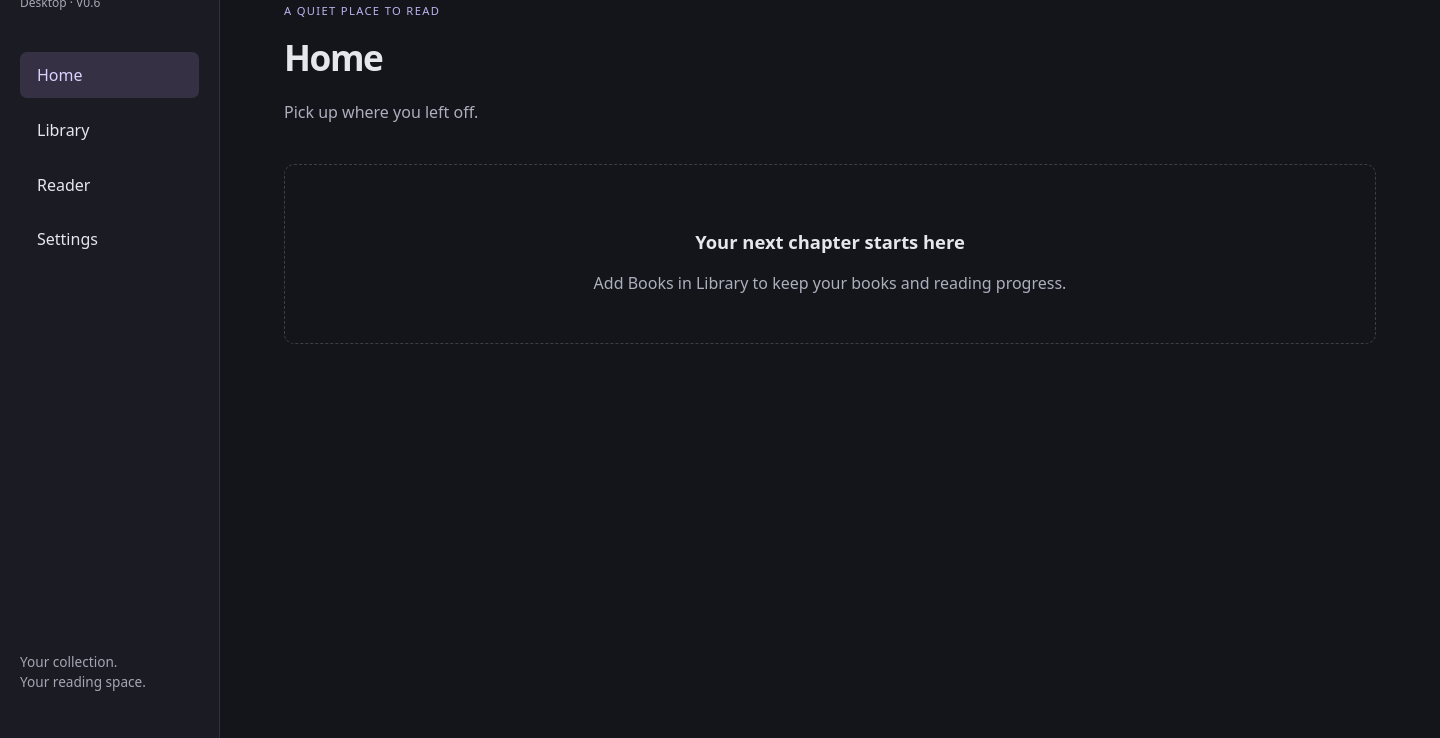
it: empty library, batch import, duplicate and invalid results use real metadata
The image size is (1440, 738).
Click the button "Library". click: (110, 130)
box: [20,106,199,153]
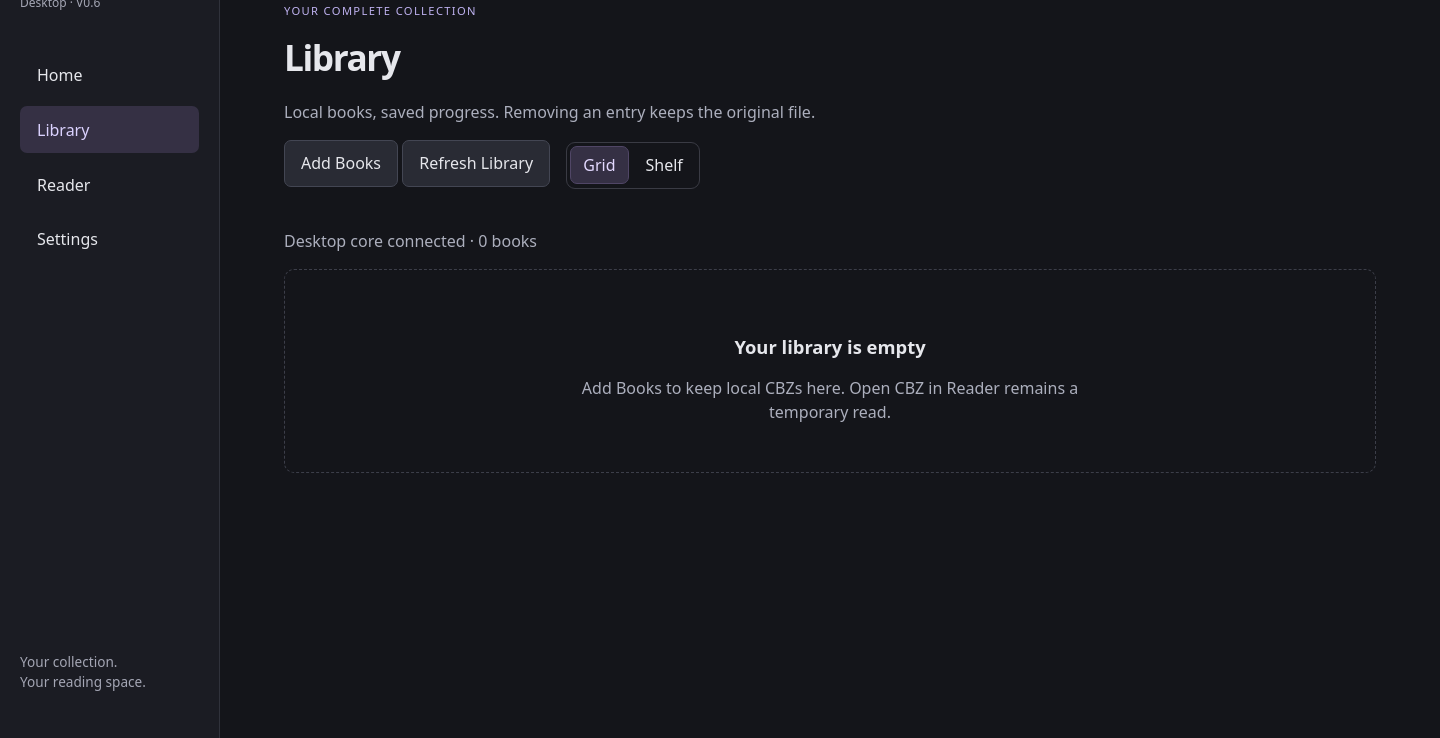
Expected: the text "Your library is empty" is shown, [734,334,926,359]
Click the button "Shelf". click: (664, 165)
box: [632,146,696,184]
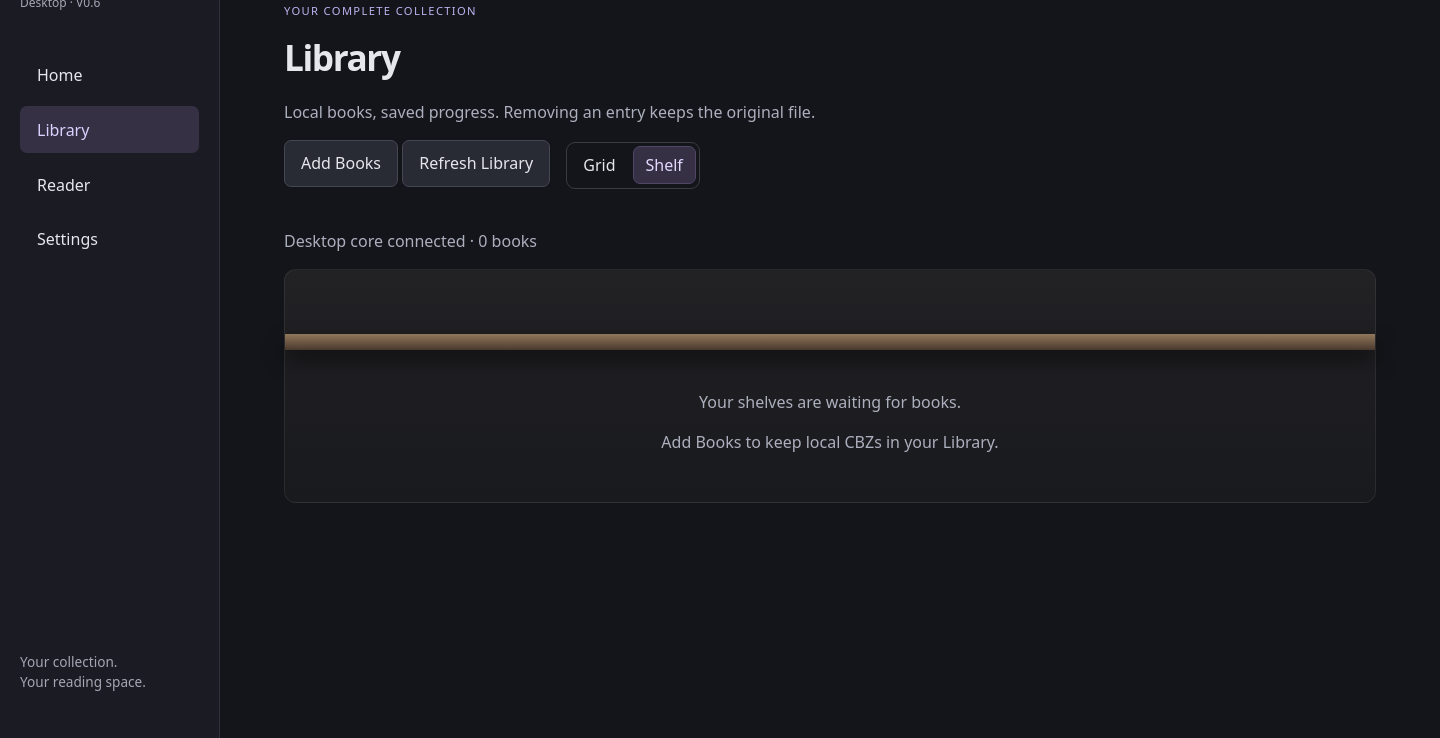
Expected: the text "Your shelves are waiting for books." is shown, [699,391,961,413]
Click the button "Grid". click: (599, 165)
box: [570,146,628,184]
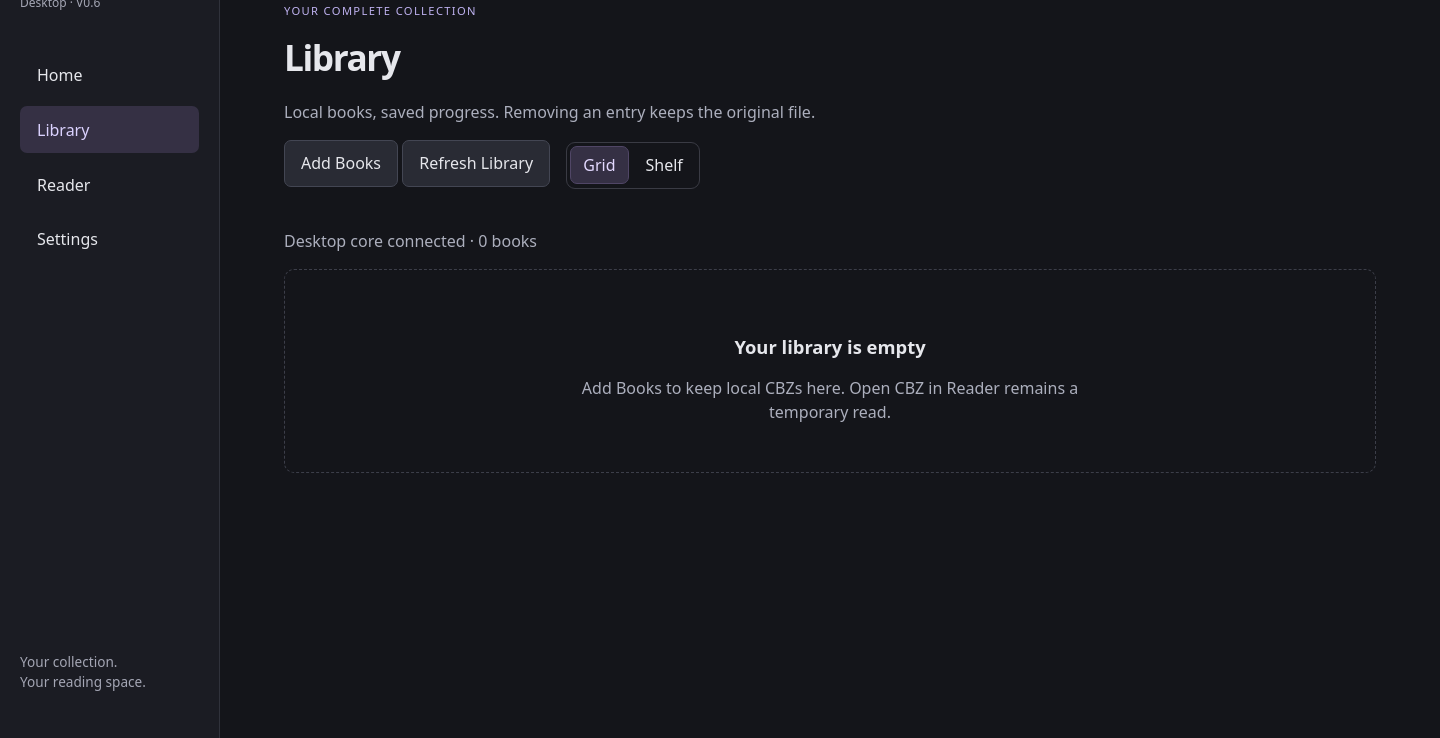
Click the button "Add Books". click: (341, 163)
box: [284,140,398,187]
(page scrolled)
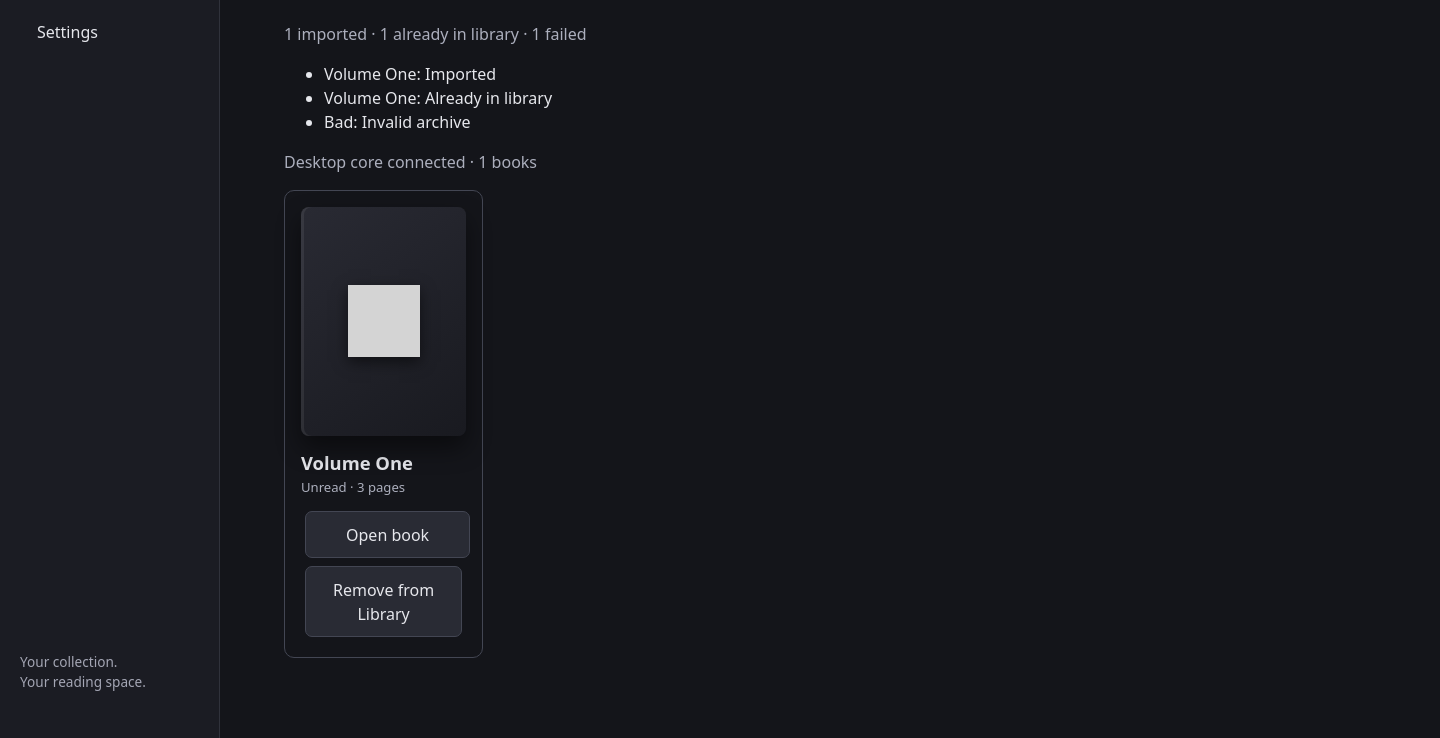
Expected: the text "1 imported · 1 already in library · 1 failed" is shown, [284,23,586,45]
Expected: the text "Invalid archive" is shown, [362,111,470,133]
Expected: the text "Volume One" is shown, [324,63,416,85]
Click the button "Remove from Library". click: (384, 602)
box: [305,566,462,637]
(page scrolled)
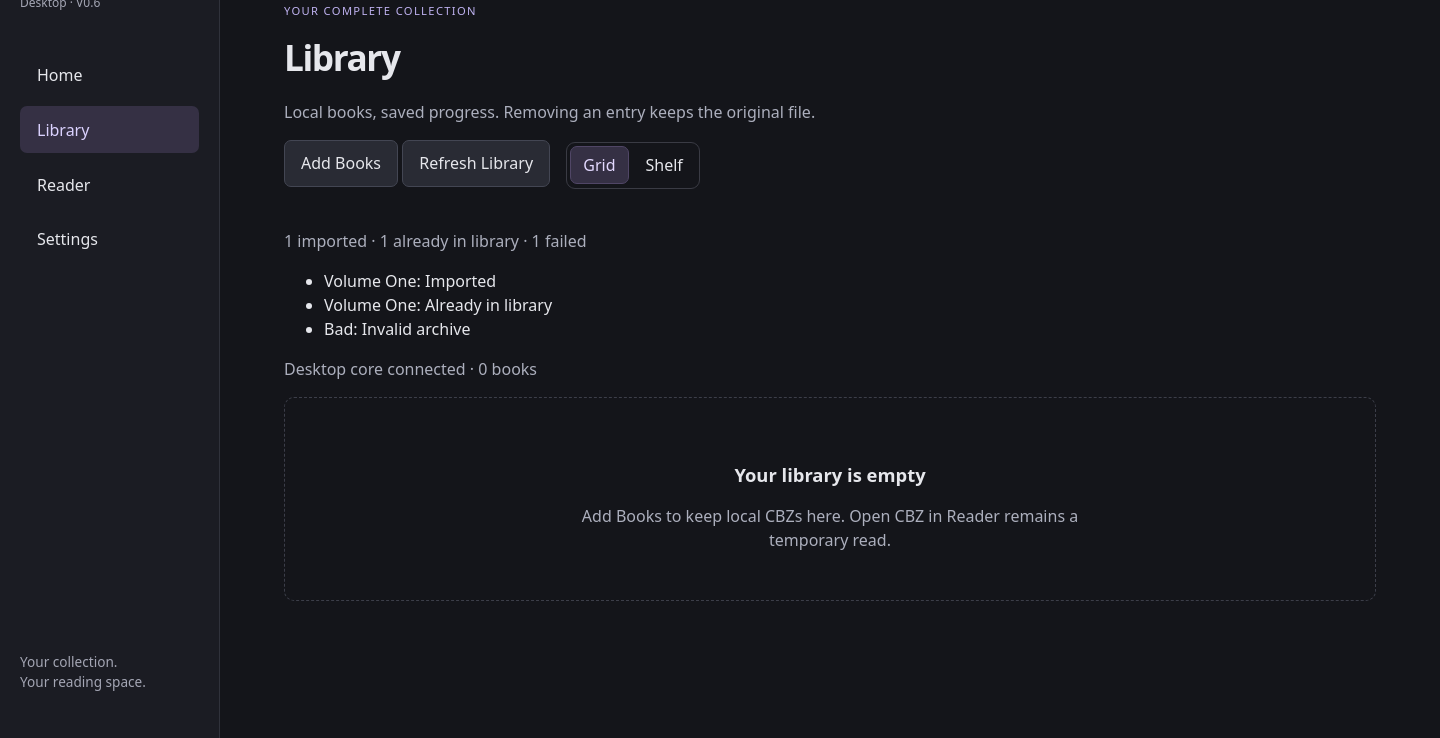
Expected: the text "Your library is empty" is shown, [734,462,926,487]
